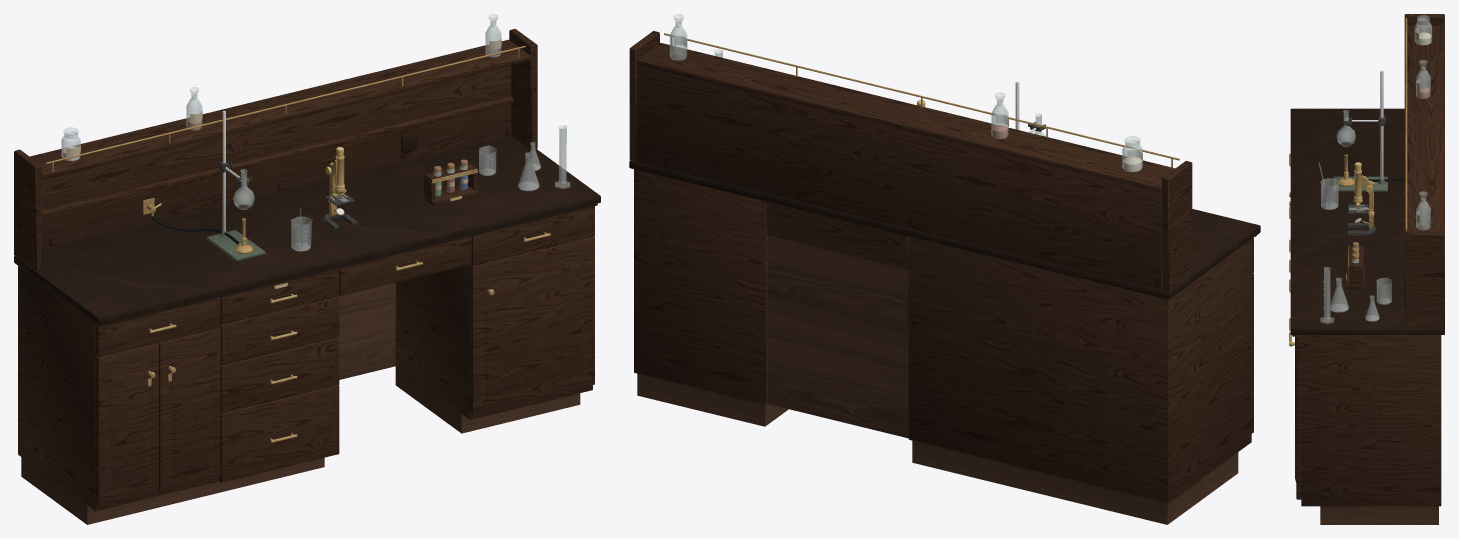
The model's file is lab_bench.glb.
The picture shows the model from 3 angles, left to right: view 1: azimuth 30°, elevation 25°; view 2: azimuth 150°, elevation 25°; view 3: azimuth 270°, elevation 25°; orthographic projection. The views are drawn at different scales.
Visible parts, largest first — view 1: lab_bench, glassware, bench_props, vial_rack, microscope; view 2: lab_bench, glassware, bench_props; view 3: lab_bench, glassware, bench_props, microscope, vial_rack.
Boxes of the visible parts, <box> form: lab_bench: <box>14,28,600,524</box>; glassware: <box>61,14,569,251</box>; bench_props: <box>62,38,565,260</box>; vial_rack: <box>423,163,478,205</box>; microscope: <box>323,147,357,229</box>; lab_bench: <box>629,31,1260,524</box>; glassware: <box>670,14,1142,172</box>; bench_props: <box>674,36,1142,171</box>; lab_bench: <box>1289,14,1444,524</box>; glassware: <box>1318,15,1431,323</box>; bench_props: <box>1323,27,1431,308</box>; microscope: <box>1347,162,1375,235</box>; vial_rack: <box>1346,245,1364,288</box>.
Bounding box in the file's own units: 2.2 × 1.49 × 0.656.
Materials: 20 (13 with a texture image).
